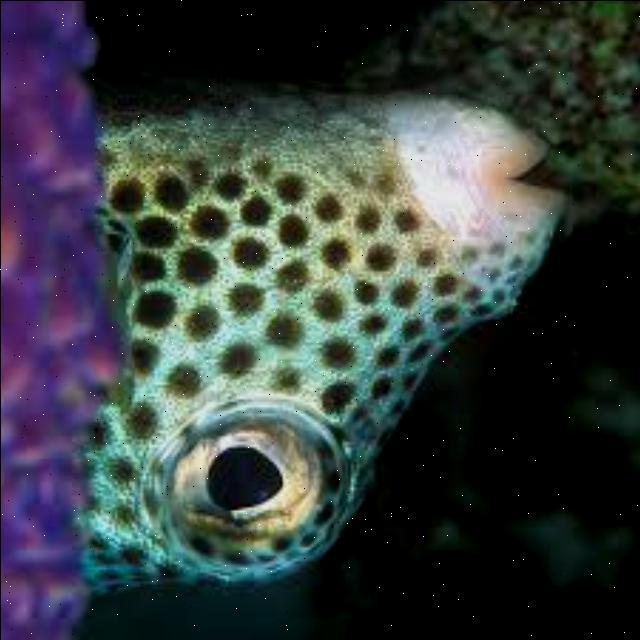Mulut: (446, 70, 610, 286)
